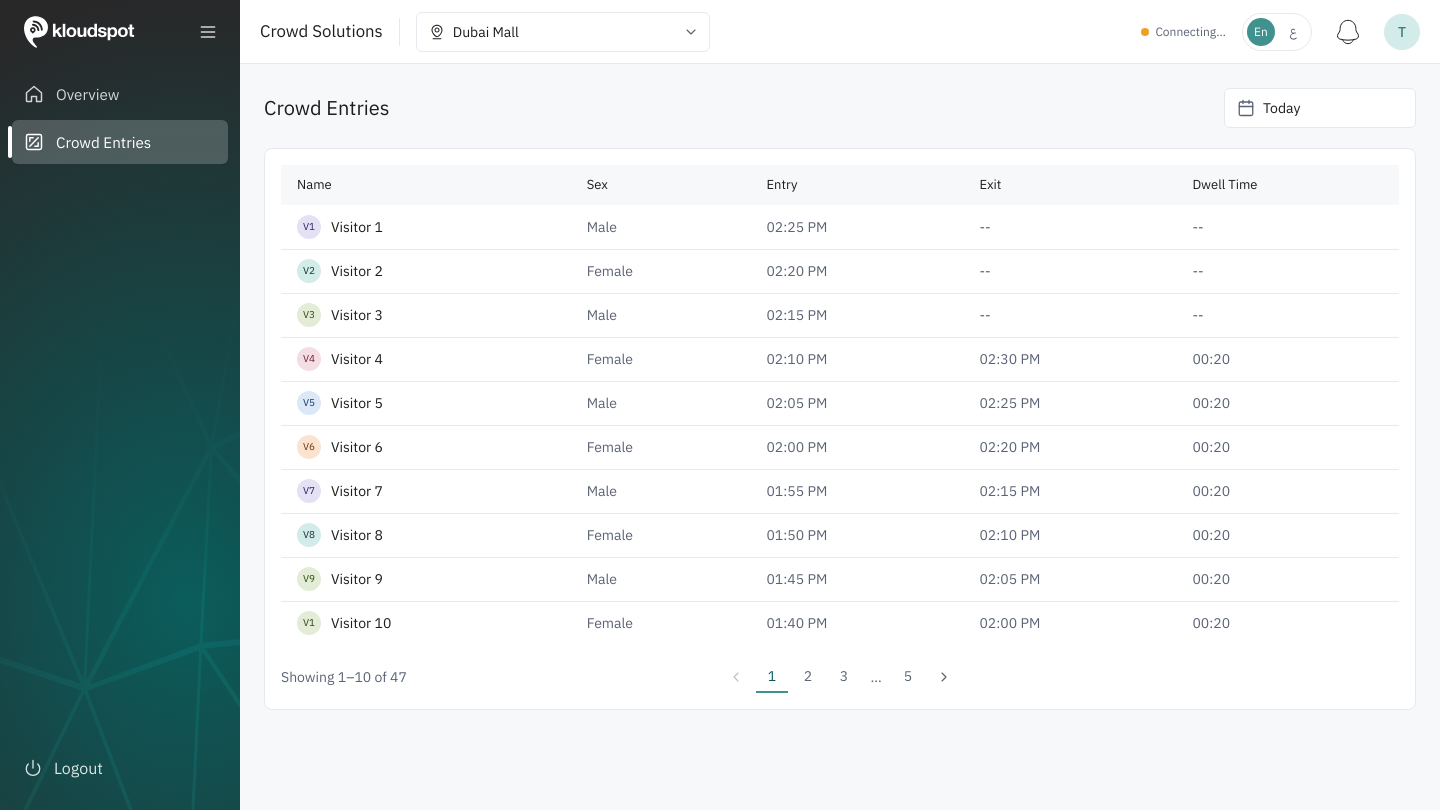
Scenario: Crowd Entries › shows 7 rows on the last page and disables Next
This screenshot has width=1440, height=810.
Expected: the text "Visitor 1" is shown, [331,217,383,237]
Expected: the button named "Previous page" is disabled, [720,661,752,693]
Click the button named "Page 5" at coordinates (908, 677), box [892,661,924,693]
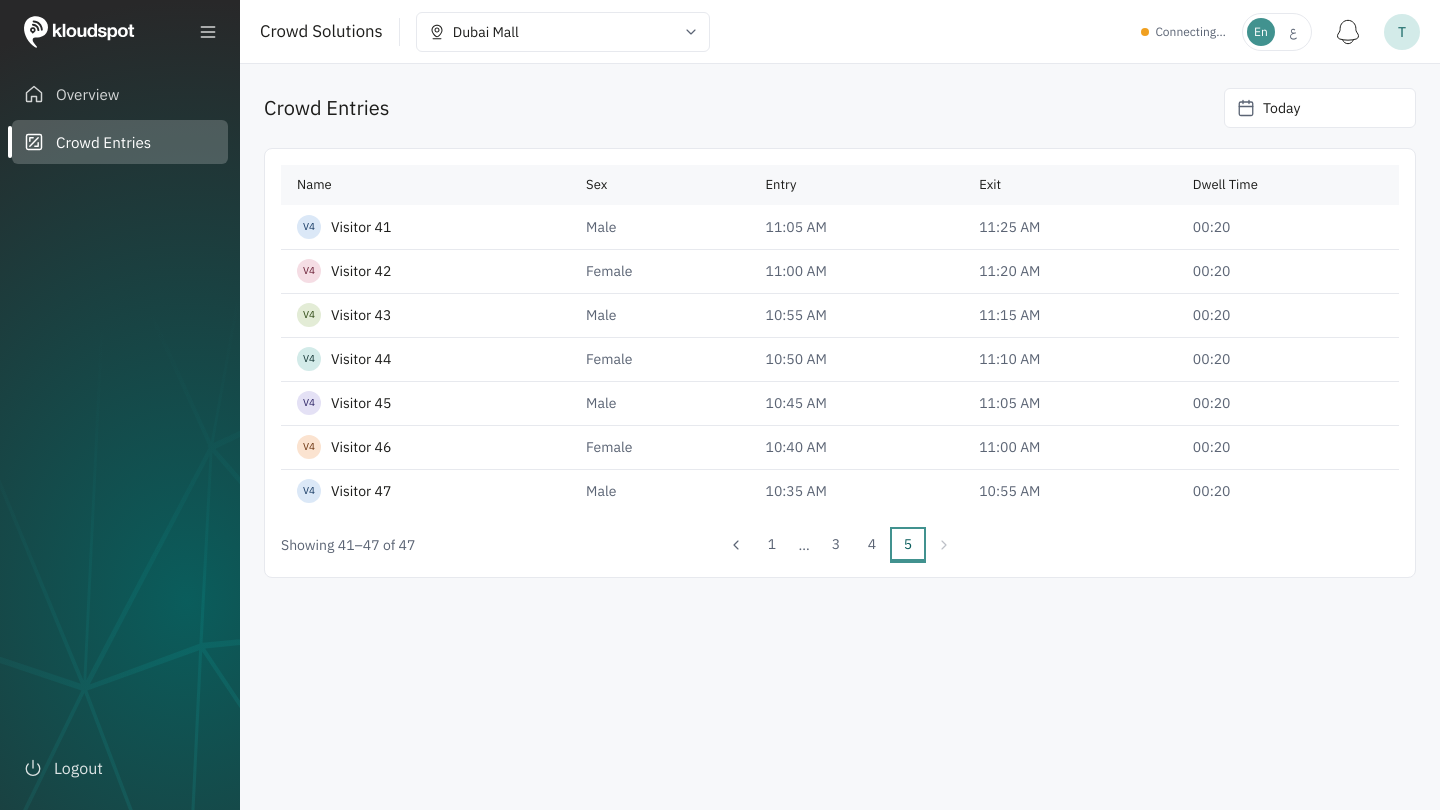
Expected: the button named "Next page" is disabled, [928,529,960,561]
Result: the text "Visitor 47" is shown at [331,481,391,501]
Result: the text "Showing 41–47 of 47" is shown at [281,535,415,555]
